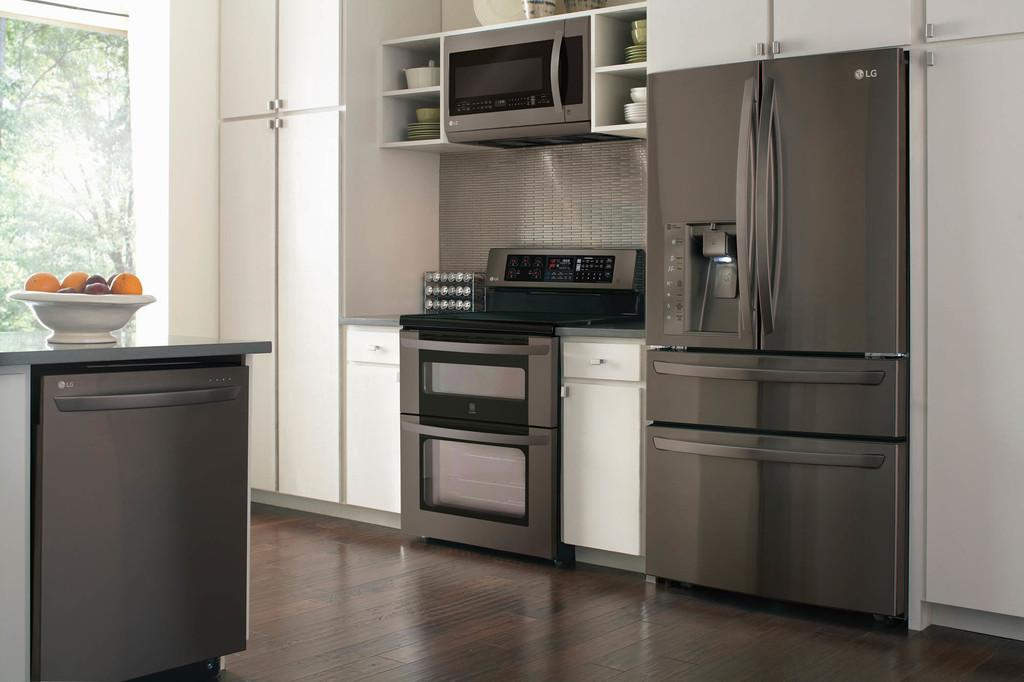cabinet_door: (927, 42, 1024, 599), (272, 113, 350, 494), (552, 381, 642, 557), (222, 118, 270, 336), (648, 2, 763, 59), (278, 2, 336, 110), (221, 2, 276, 108), (777, 10, 893, 54), (925, 2, 1015, 33), (563, 348, 643, 376), (348, 334, 401, 360)
handle: (650, 425, 886, 481), (652, 352, 890, 395), (724, 85, 762, 323), (750, 87, 784, 329), (52, 384, 244, 420), (396, 332, 553, 362), (406, 420, 548, 452), (555, 380, 575, 407), (766, 34, 786, 59), (583, 350, 609, 368), (925, 46, 941, 73), (747, 39, 769, 58), (360, 339, 385, 355), (920, 21, 940, 41), (273, 113, 287, 134), (260, 116, 276, 134), (262, 91, 274, 113), (270, 98, 286, 112)
